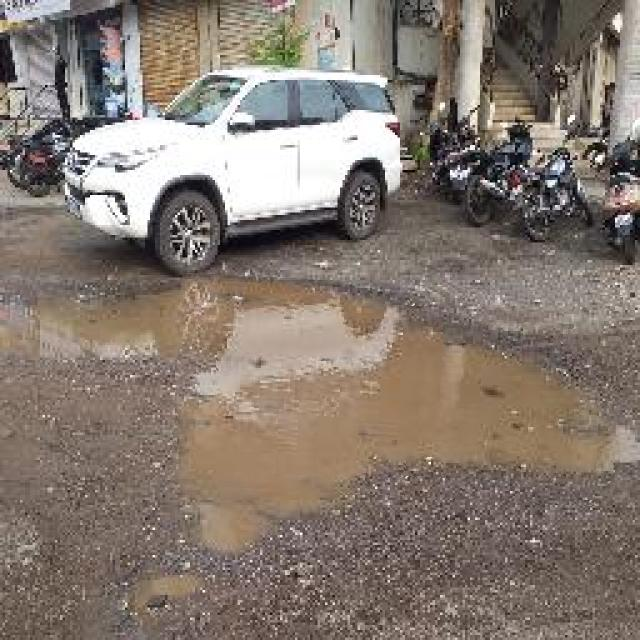puddle: (175, 279, 621, 503)
